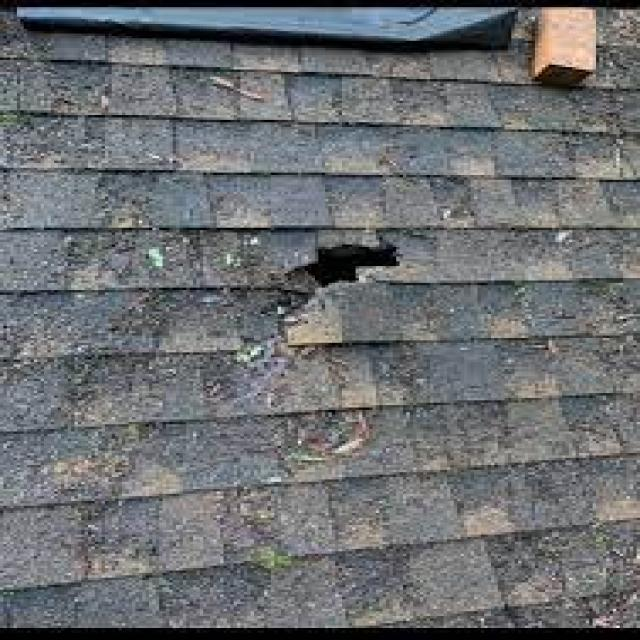damaged_roof: (247, 223, 422, 332)
